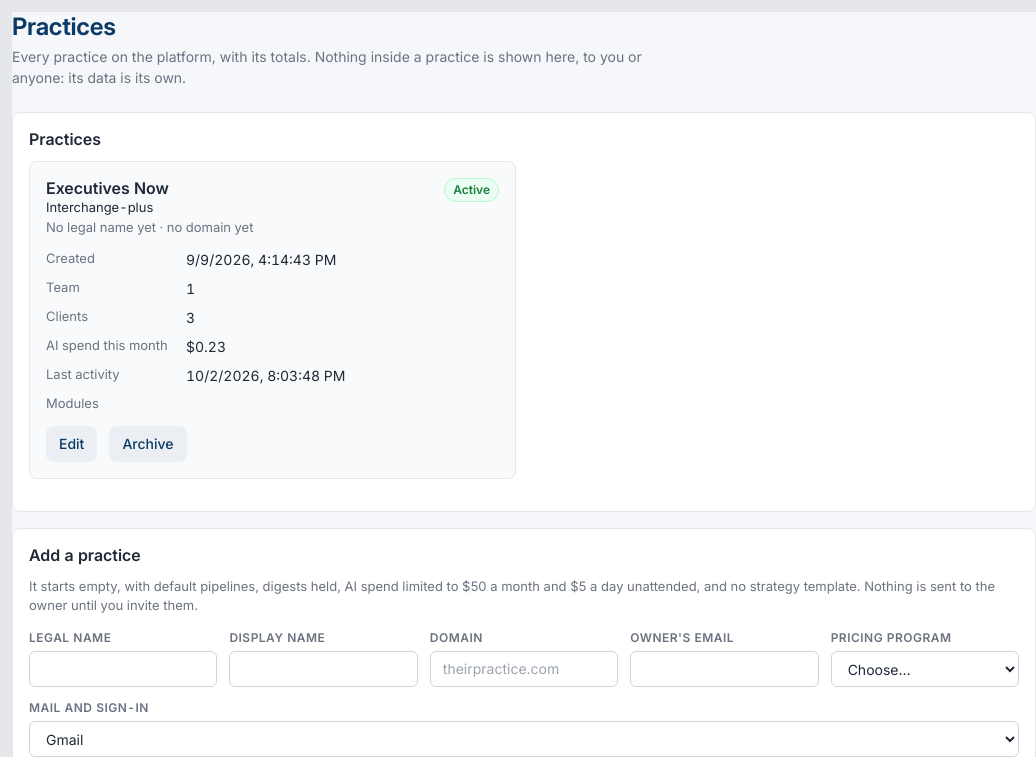
the Practices area (P2) › shows and changes a practice's pricing program
Expected: the text named "Billing of Executives Now" reads "Interchange-plus", [46,199,153,215]
Step 1. Click the button "Edit" → (72, 444), box [46,426,97,462]
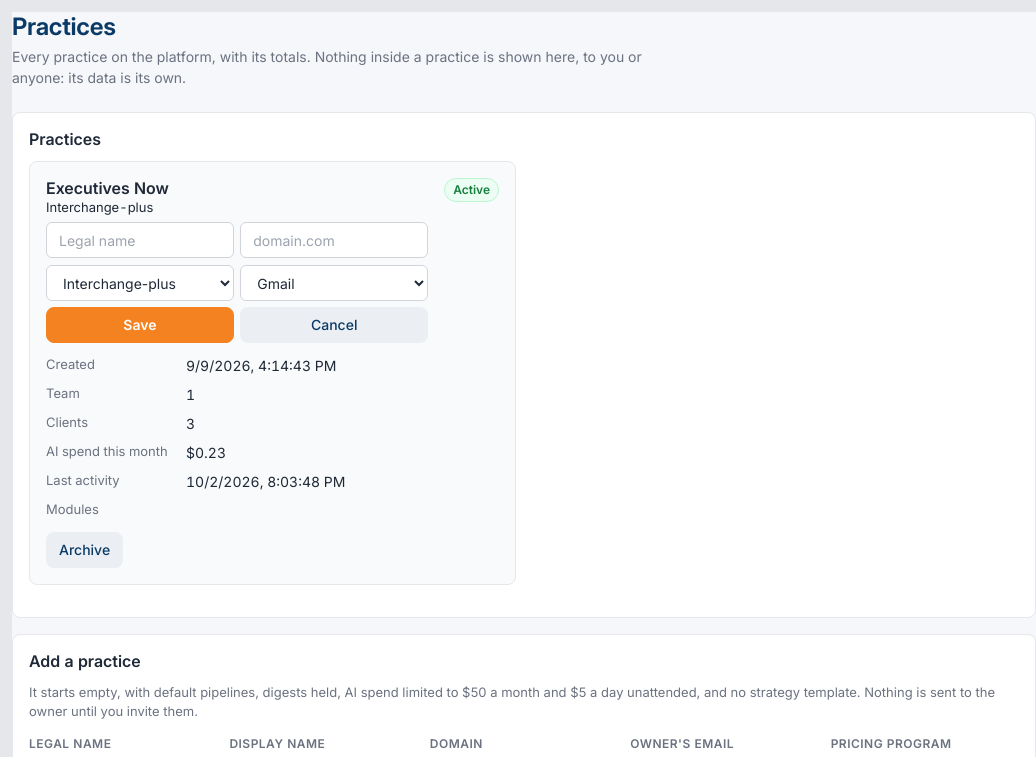
Step 2. Select "Dual pricing" in the dropdown named "Pricing program of Executives Now" → (140, 283), box [46,265,234,301]
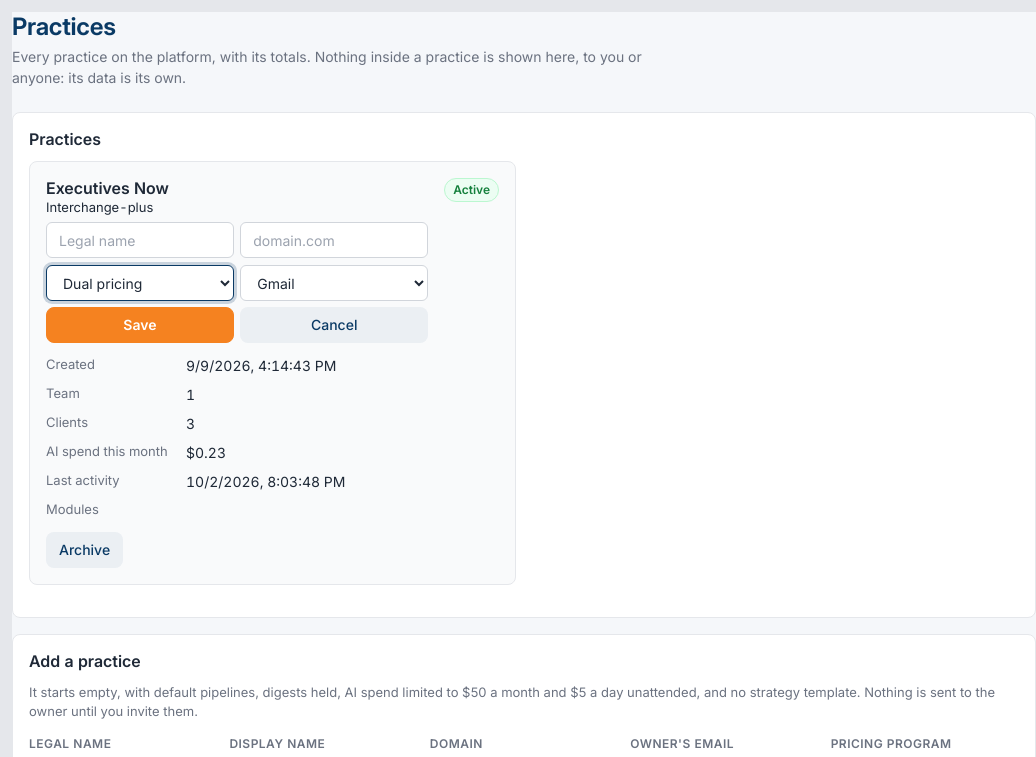
Step 3. Click the button "Save" → (140, 325), box [46,307,234,343]
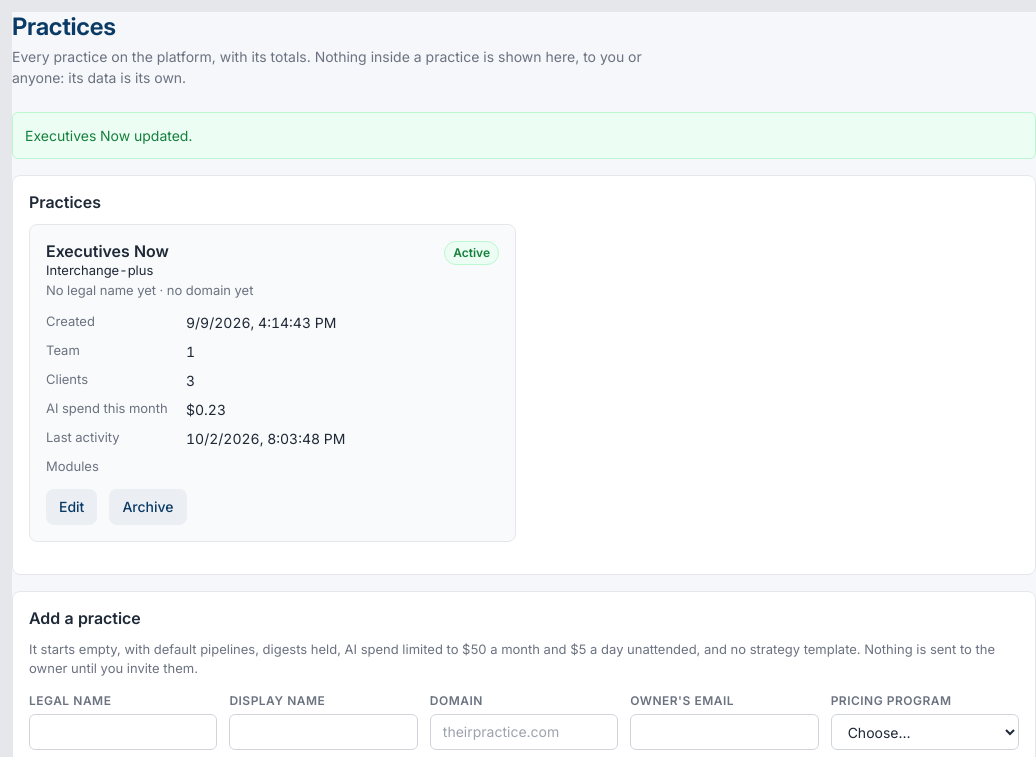
Expected: the text "Executives Now updated." is shown, [25,127,192,144]
